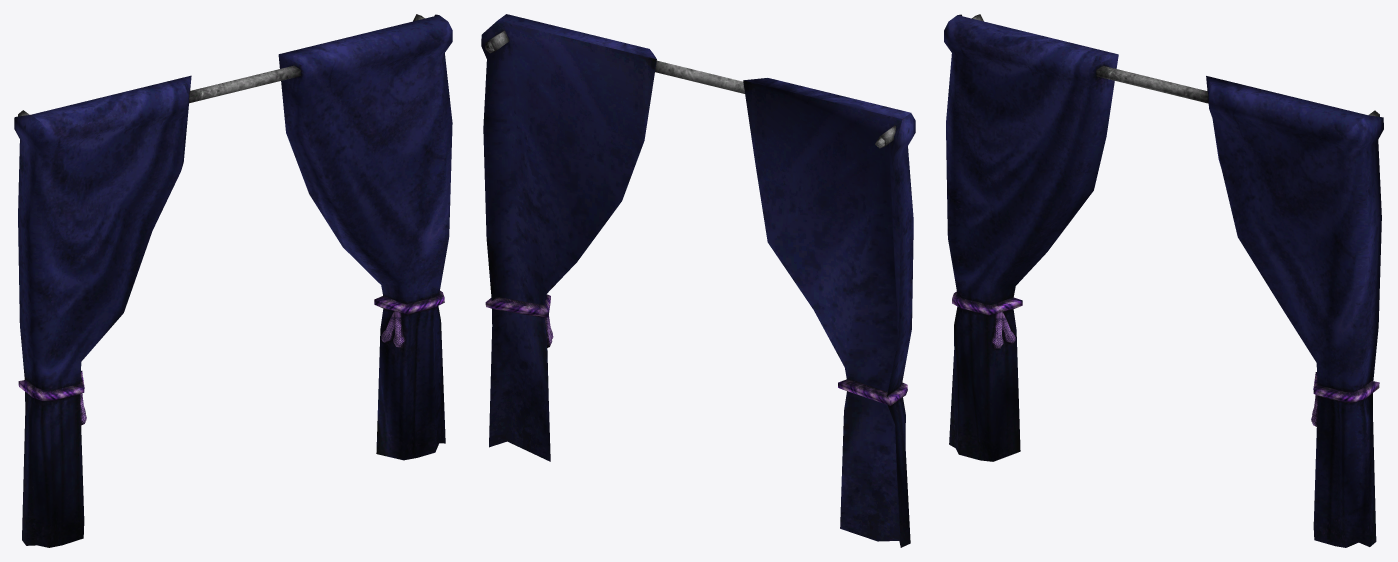
File: 42_curtain01_blue_open.dae
3 views of the same model, side by side, from view 1: azimuth 30°, elevation 25°; view 2: azimuth 150°, elevation 25°; view 3: azimuth 330°, elevation 25° (orthographic).
Parts seen in each view (by area): view 1: curtain01_open; view 2: curtain01_open; view 3: curtain01_open.
Part boxes in pixels (x1=…): curtain01_open: x1=14, y1=14, x2=452, y2=547; curtain01_open: x1=481, y1=14, x2=915, y2=547; curtain01_open: x1=944, y1=14, x2=1383, y2=547.
Bounding box in the file's own units: 3.75 × 3.68 × 0.4366.
